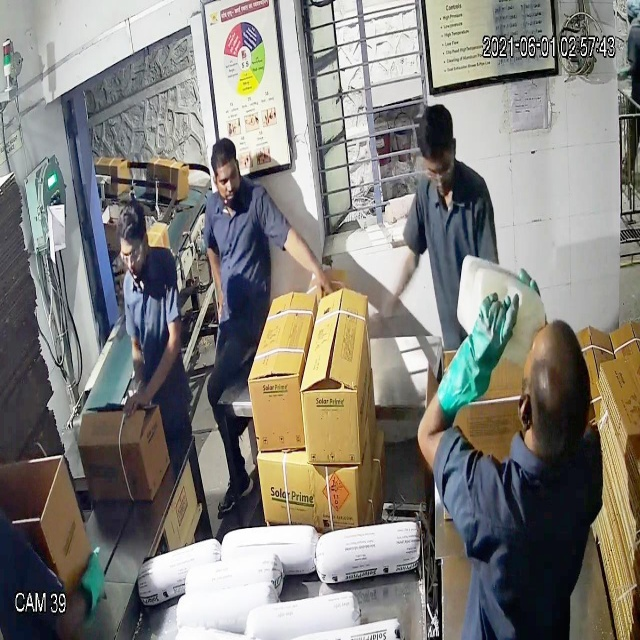Gafas: (419, 153, 462, 190), (117, 239, 153, 271)
